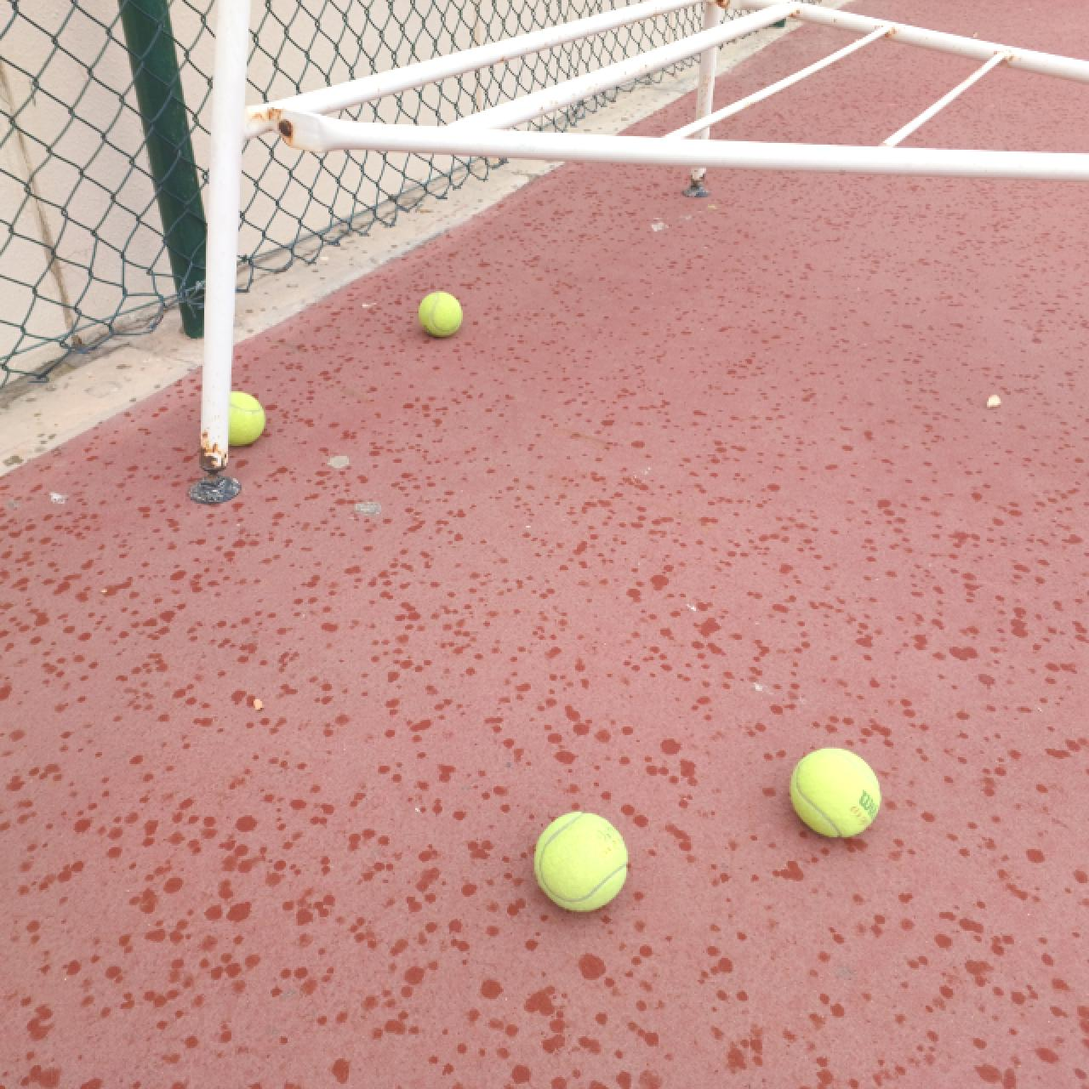tennis-ball: (534, 808, 629, 914), (789, 744, 882, 842), (209, 388, 266, 446), (416, 289, 464, 337)
